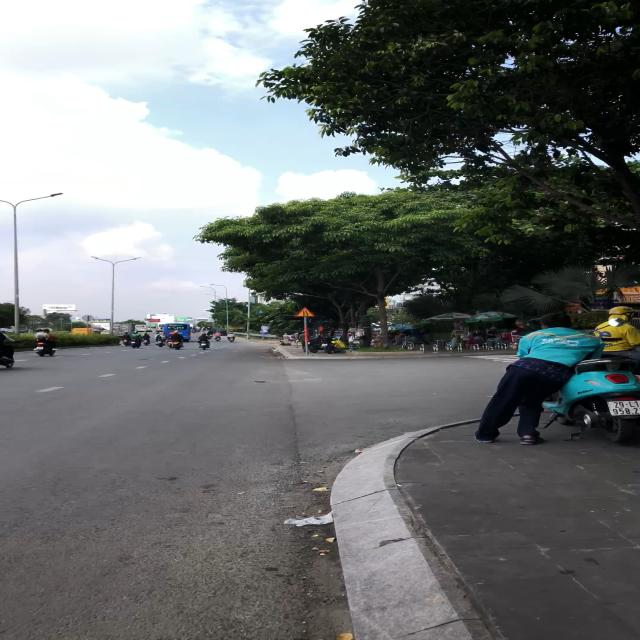Bien bao duong bi thu hep: (294, 307, 317, 317)
